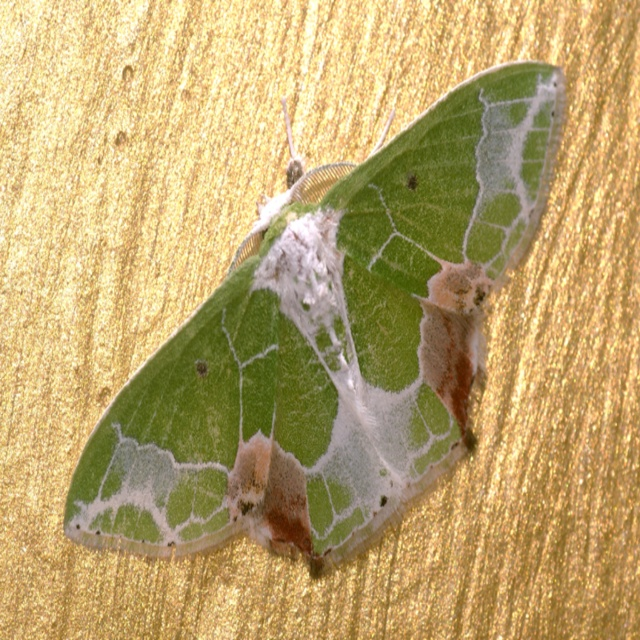Moths and butterflies: (63, 62, 567, 592)
